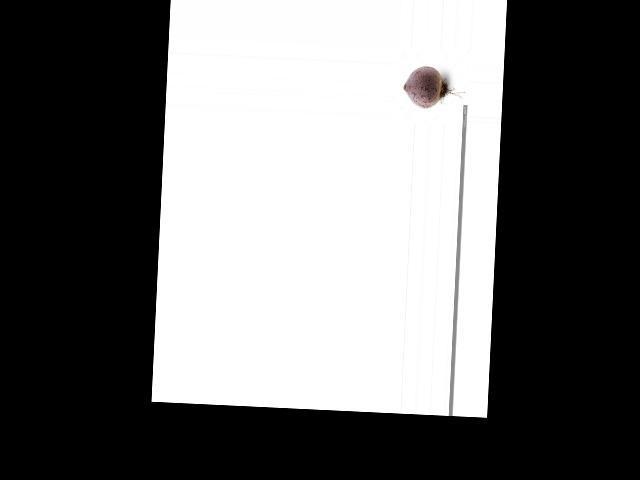beet: (402, 65, 467, 110)
